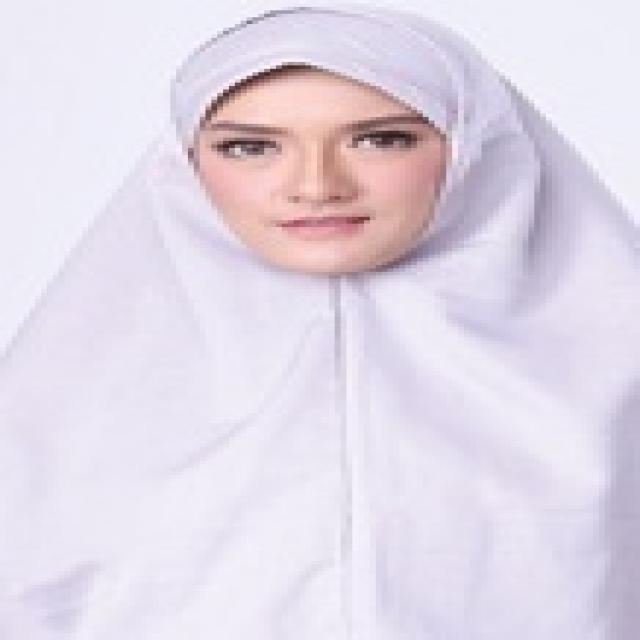head: (166, 8, 491, 294)
